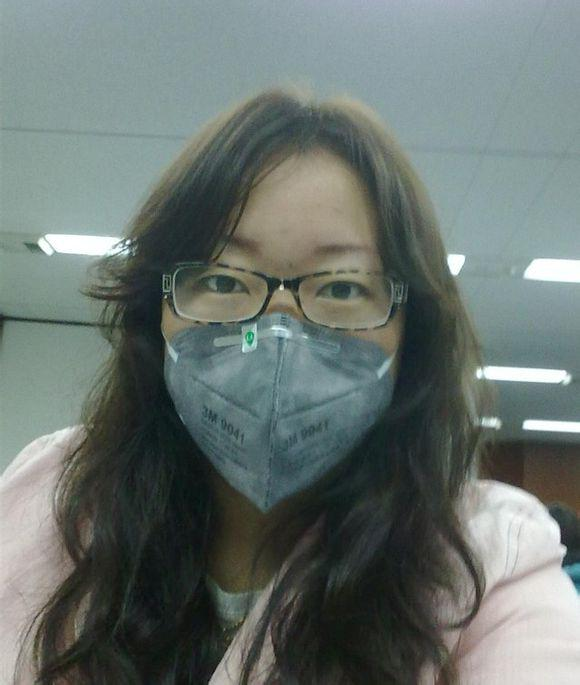OK: (158, 225, 403, 487)
